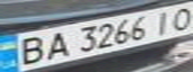2: (93, 20, 118, 51)
3: (75, 23, 100, 53)
6: (127, 12, 154, 42), (112, 16, 136, 46)
A: (39, 28, 75, 61)
B: (6, 34, 51, 68)
I: (148, 8, 178, 36)
O: (166, 3, 193, 32)
